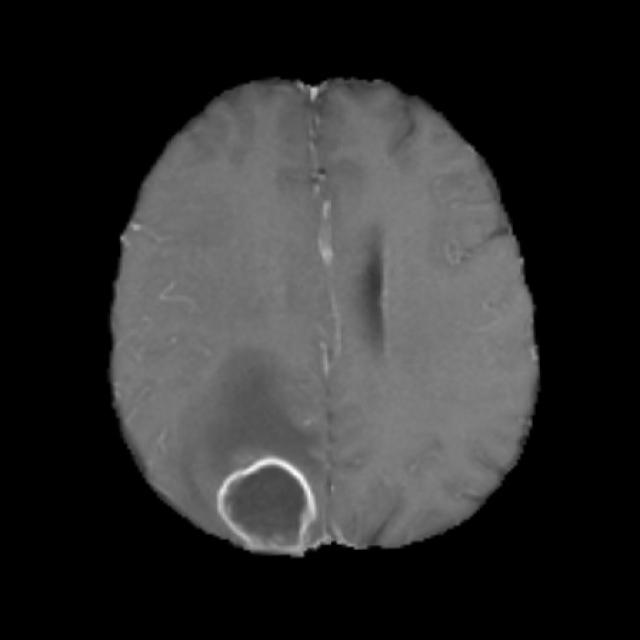positive: (214, 457, 314, 552)
